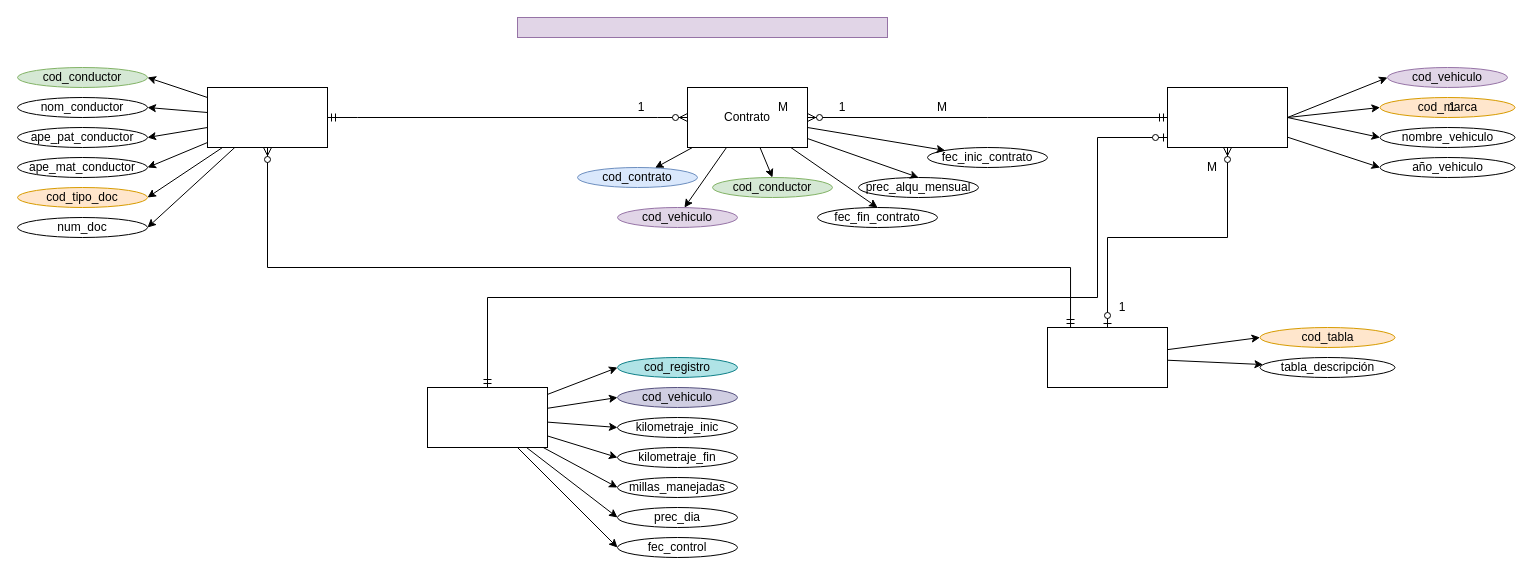
Some shapes in this 1533 by 575 pixel diagram are drawn without their labels. Each missing label, with the centre of its shape:
Conductor: point 267,117
Grupo_Tabla: point 1107,357
Modelo entidad relación: point 702,27
Registro_vehicular: point 487,417
Vehiculo: point 1227,117
